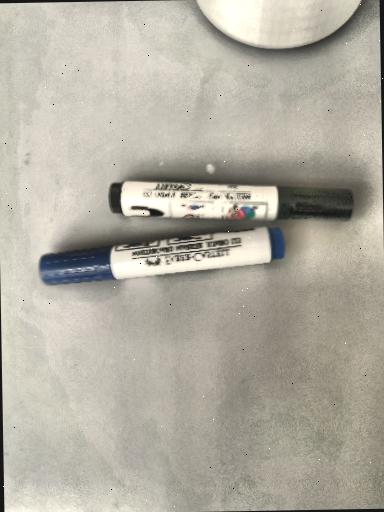marcador azul: (40, 227, 285, 285)
marcador negro: (109, 181, 354, 221)
